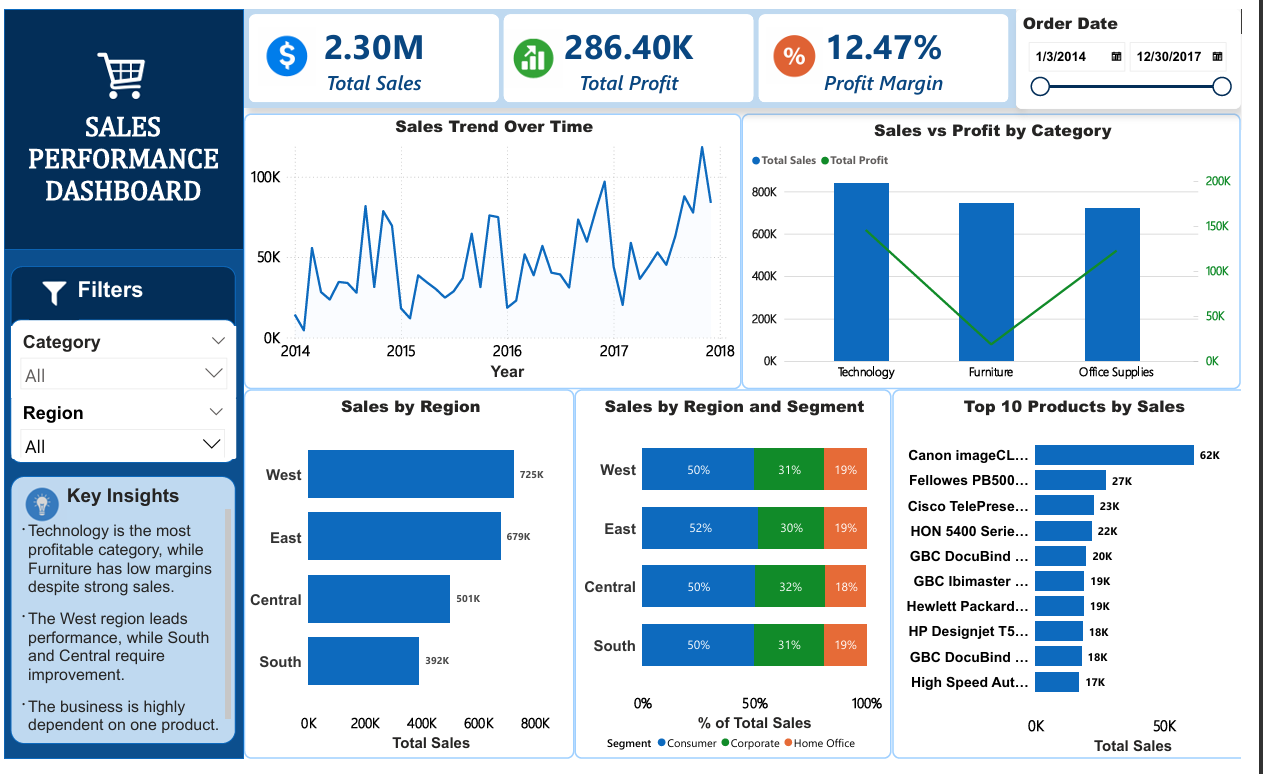

What the dashboard file says about the page in this screenshot:
{"tool":"powerbi","page":{"name":"Page 1","canvas":[1650,1001],"ordinal":0},"visuals":[{"type":"lineClusteredColumnComboChart","title":"Sales vs Profit by Category","fields":{"Category":["Superstore.Category"],"Y":["Superstore.Total Sales"],"Y2":["Superstore.Total Profit"]},"box":[984.1,138.6,665.9,368.2],"z":0},{"type":"barChart","title":"Sales by Region","fields":{"Category":["Superstore.Region"],"Y":["Superstore.Total Sales"]},"box":[320.5,506.8,440.9,493.2],"z":1000},{"type":"barChart","title":"Top 10 Products by Sales","fields":{"Y":["Superstore.Total Sales"],"Category":["Superstore.Product Name"]},"box":[1184.8,506.5,482.6,493.5],"z":2000},{"type":"cardVisual","fields":{"Data":["Superstore.Total Sales","Superstore.Total Profit","Superstore.Profit Margin"]},"box":[320.5,0,1029.5,131.8],"z":3000},{"type":"lineChart","title":"Sales Trend Over Time","fields":{"Y":["Superstore.Total Sales"],"Category":["Superstore.Order Date.Variation.Date Hierarchy.Year","Superstore.Order Date.Variation.Date Hierarchy.Quarter","Superstore.Order Date.Variation.Date Hierarchy.Month"]},"box":[320.5,138.6,663.6,368.2],"z":4000},{"type":"hundredPercentStackedBarChart","title":"Sales by Region and Segment","fields":{"Category":["Superstore.Region"],"Y":["Superstore.Total Sales"],"Series":["Superstore.Segment"]},"box":[761.4,506.8,422.7,493.2],"z":5000},{"type":"shape","box":[0,0,320.5,322.7],"z":6000},{"type":"shape","box":[0,320,320,680],"z":7000},{"type":"shape","box":[9.1,343.2,300,254.5],"z":8000},{"type":"shape","box":[9.1,413.6,300,190.9],"z":9000},{"type":"image","box":[25,347.7,84.1,65.9],"z":10000},{"type":"textbox","title":"Filters","box":[93.2,356.8,215.9,72.7],"z":11000},{"type":"slicer","fields":{"Values":["Superstore.Region"]},"box":[10,517.5,300,82.5],"z":12000},{"type":"slicer","fields":{"Values":["Superstore.Category"]},"box":[10,422.5,300,95],"z":13000},{"type":"image","box":[40.9,13.6,234.1,159.1],"z":14000},{"type":"textbox","box":[9.1,131.8,300,188.6],"z":15000},{"type":"image","box":[338.6,15.9,77.3,93.2],"z":16000},{"type":"image","box":[1002.3,25,104.5,75],"z":17000},{"type":"image","box":[668.2,25,77.3,79.5],"z":18000},{"type":"shape","box":[9.1,622.7,300,356.8],"z":19000},{"type":"image","box":[9.1,627.3,84.1,63.6],"z":20000},{"type":"textbox","title":"Key Insights","box":[9.1,634.1,300,336.4],"z":21000},{"type":"slicer","title":"Order Date","fields":{"Values":["Superstore.Order Date"]},"box":[1350,0,300,132.6],"z":22000}]}

Visuals, with their boxes in screenshot pixels (x1, y1, x2, y2), scaled from the page's 1650x1001 canvas onto the 1263x774 screenshot:
"Sales vs Profit by Category" lineClusteredColumnComboChart: l=753, t=107, r=1262, b=392
"Sales by Region" barChart: l=245, t=392, r=583, b=773
"Top 10 Products by Sales" barChart: l=907, t=392, r=1262, b=773
cardVisual - Superstore.Total Sales x Superstore.Total Profit: l=245, t=0, r=1033, b=102
"Sales Trend Over Time" lineChart: l=245, t=107, r=753, b=392
"Sales by Region and Segment" hundredPercentStackedBarChart: l=583, t=392, r=906, b=773
shape: l=0, t=0, r=245, b=250
shape: l=0, t=247, r=245, b=773
shape: l=7, t=265, r=237, b=462
shape: l=7, t=320, r=237, b=467
image: l=19, t=269, r=84, b=320
"Filters" textbox: l=71, t=276, r=237, b=332
slicer - Superstore.Region: l=8, t=400, r=237, b=464
slicer - Superstore.Category: l=8, t=327, r=237, b=400
image: l=31, t=11, r=210, b=134
textbox: l=7, t=102, r=237, b=248
image: l=259, t=12, r=318, b=84
image: l=767, t=19, r=847, b=77
image: l=511, t=19, r=571, b=81
shape: l=7, t=481, r=237, b=757
image: l=7, t=485, r=71, b=534
"Key Insights" textbox: l=7, t=490, r=237, b=750
"Order Date" slicer: l=1033, t=0, r=1262, b=103
